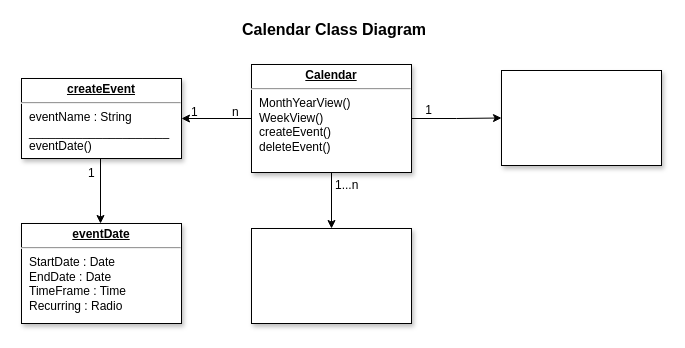
Image size: 685x348. Some labels were removed from this diagram. The centre of each missing label's shape, as x and y in pixels:
"deleteEvent eventID : int" belongs at pixel 582 119.
"weekView week : row" belongs at pixel 332 277.
